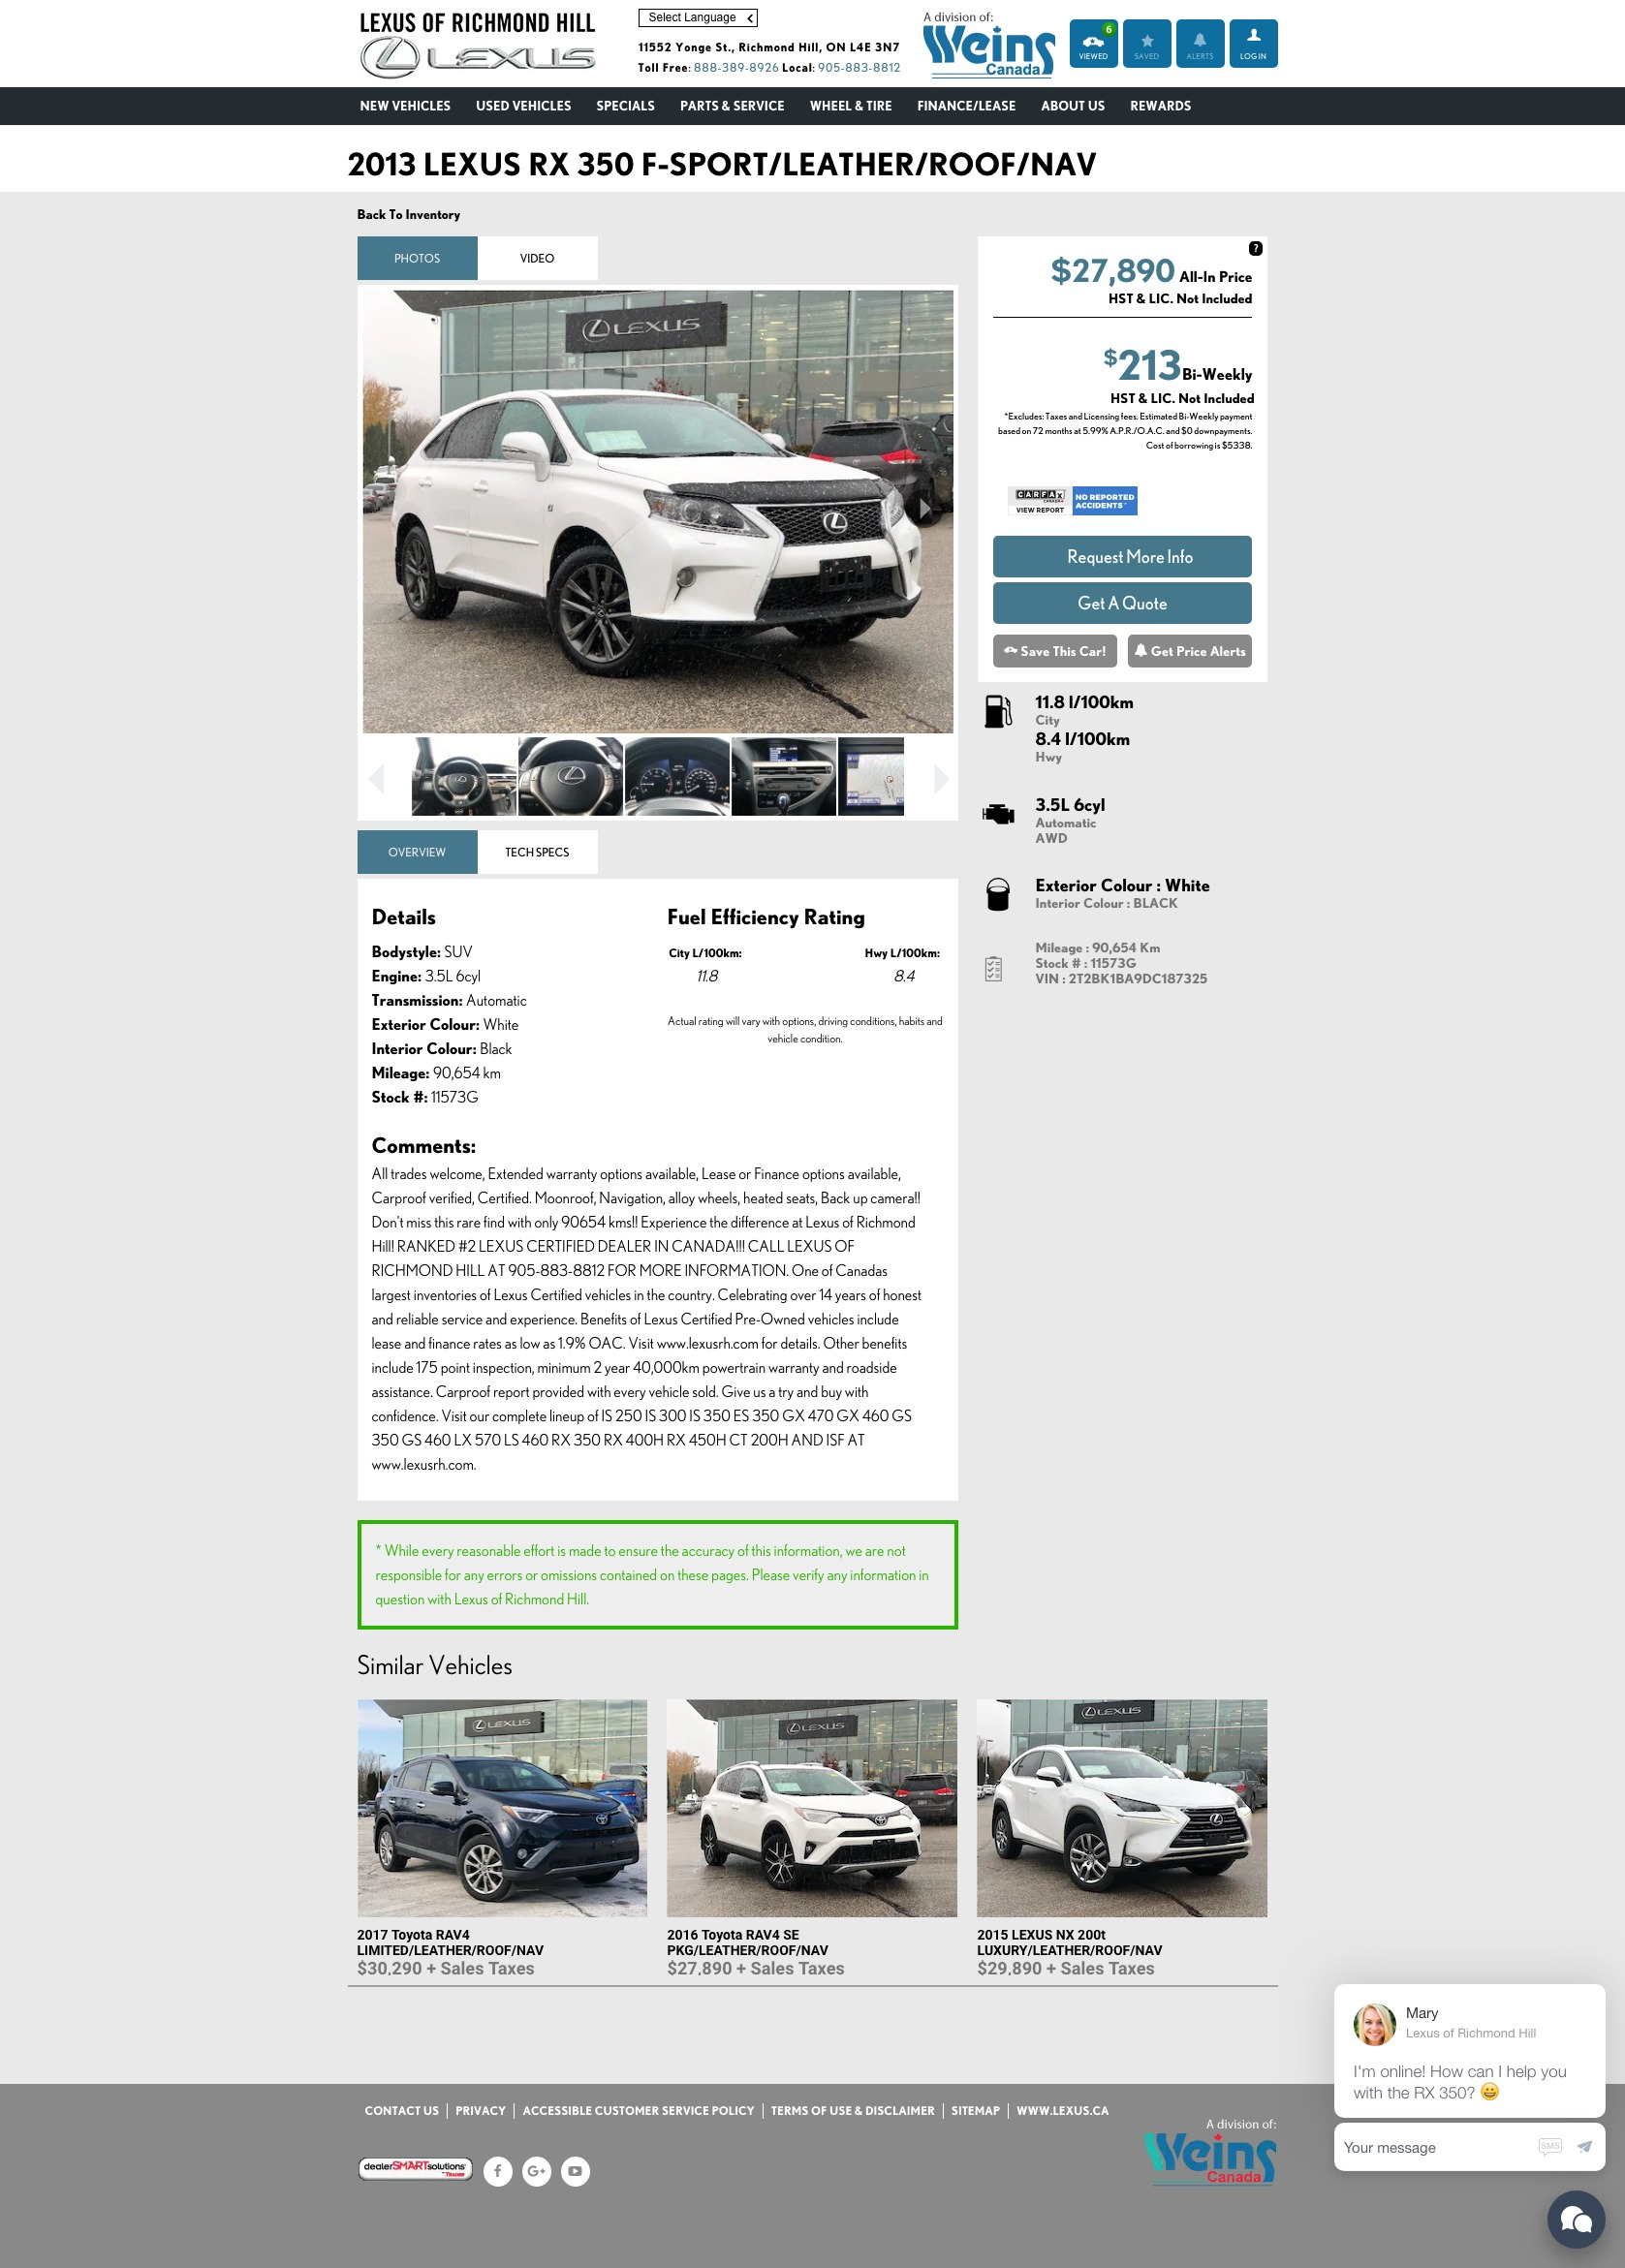car: (934, 763, 951, 796)
